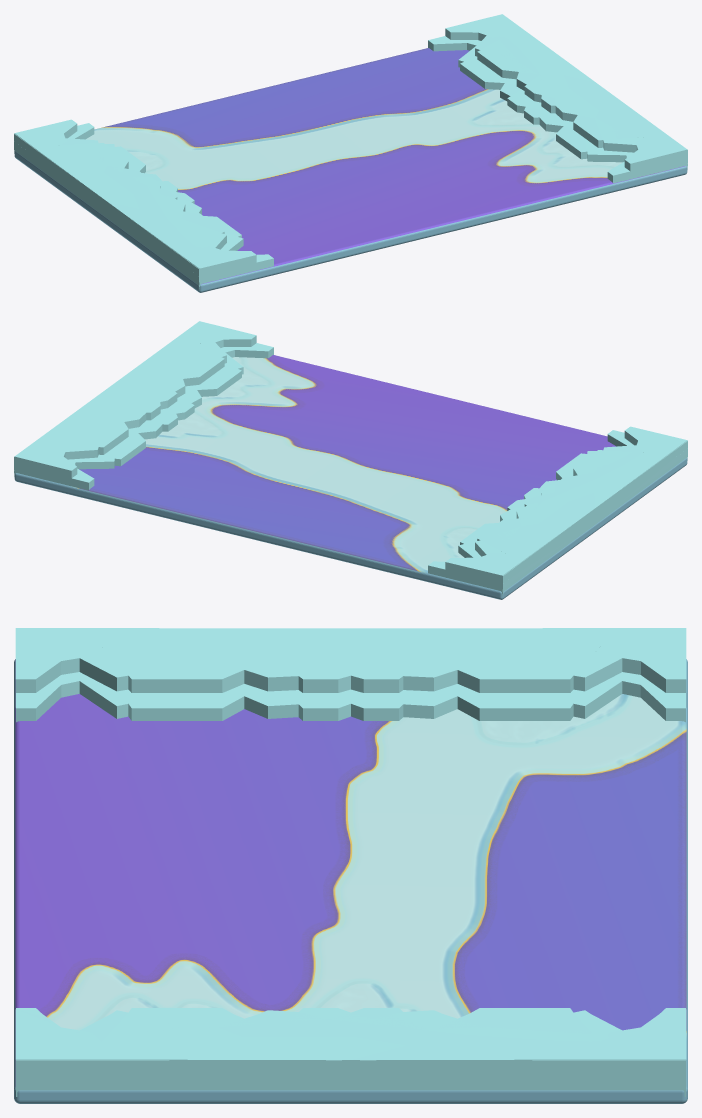
Rendered from 일반타일(3).fbx.
The picture shows the model from 3 angles, top to bottom: view 1: azimuth 30°, elevation 25°; view 2: azimuth 150°, elevation 25°; view 3: azimuth 270°, elevation 25°; orthographic projection. The views are drawn at different scales.
Parts seen in each view (by area): view 1: Cube.003, Plane.005, Plane.001; view 2: Cube.003, Plane.005, Plane.001; view 3: Cube.003, Plane.005, Plane.001.
Boxes of the visible parts, left/top/right/bottom form: Cube.003: left=14, top=48, right=687, bottom=292; Plane.005: left=14, top=14, right=687, bottom=285; Plane.001: left=14, top=36, right=687, bottom=289; Cube.003: left=14, top=355, right=687, bottom=599; Plane.005: left=14, top=321, right=687, bottom=592; Plane.001: left=14, top=343, right=687, bottom=596; Cube.003: left=14, top=659, right=687, bottom=1103; Plane.005: left=15, top=628, right=686, bottom=1089; Plane.001: left=16, top=672, right=685, bottom=1096.
Bounding box in the file's own units: 2017 × 100 × 1329.
Materials: 2 (1 with a texture image).
